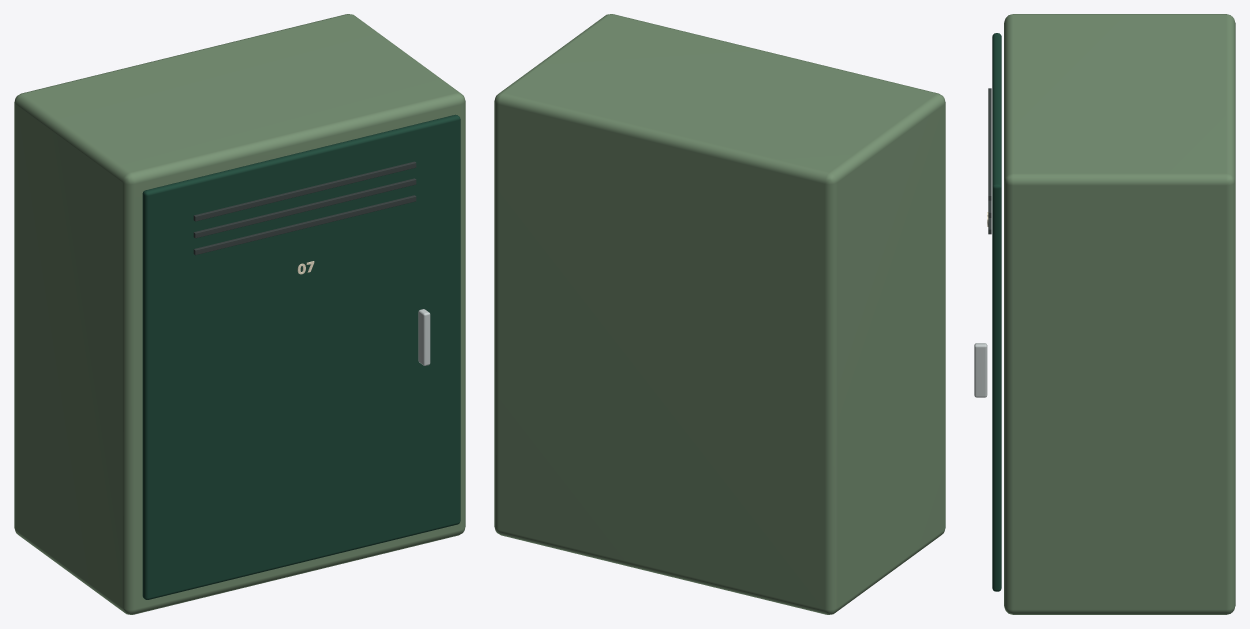
File: SM_EG_StaffLocker_07_9bda23ab81.fbx
3 views of the same model, side by side, from view 1: azimuth 30°, elevation 25°; view 2: azimuth 150°, elevation 25°; view 3: azimuth 270°, elevation 25° (orthographic).
Visible parts, largest first — view 1: SM_EG_StaffLocker_07_9bda23ab81; view 2: SM_EG_StaffLocker_07_9bda23ab81; view 3: SM_EG_StaffLocker_07_9bda23ab81.
Part boxes in pixels (x1=…): SM_EG_StaffLocker_07_9bda23ab81: x1=14, y1=14, x2=465, y2=614; SM_EG_StaffLocker_07_9bda23ab81: x1=494, y1=14, x2=945, y2=614; SM_EG_StaffLocker_07_9bda23ab81: x1=974, y1=14, x2=1235, y2=614.
Size of what is drawn, in the model's own units: 170 by 113 by 210.
